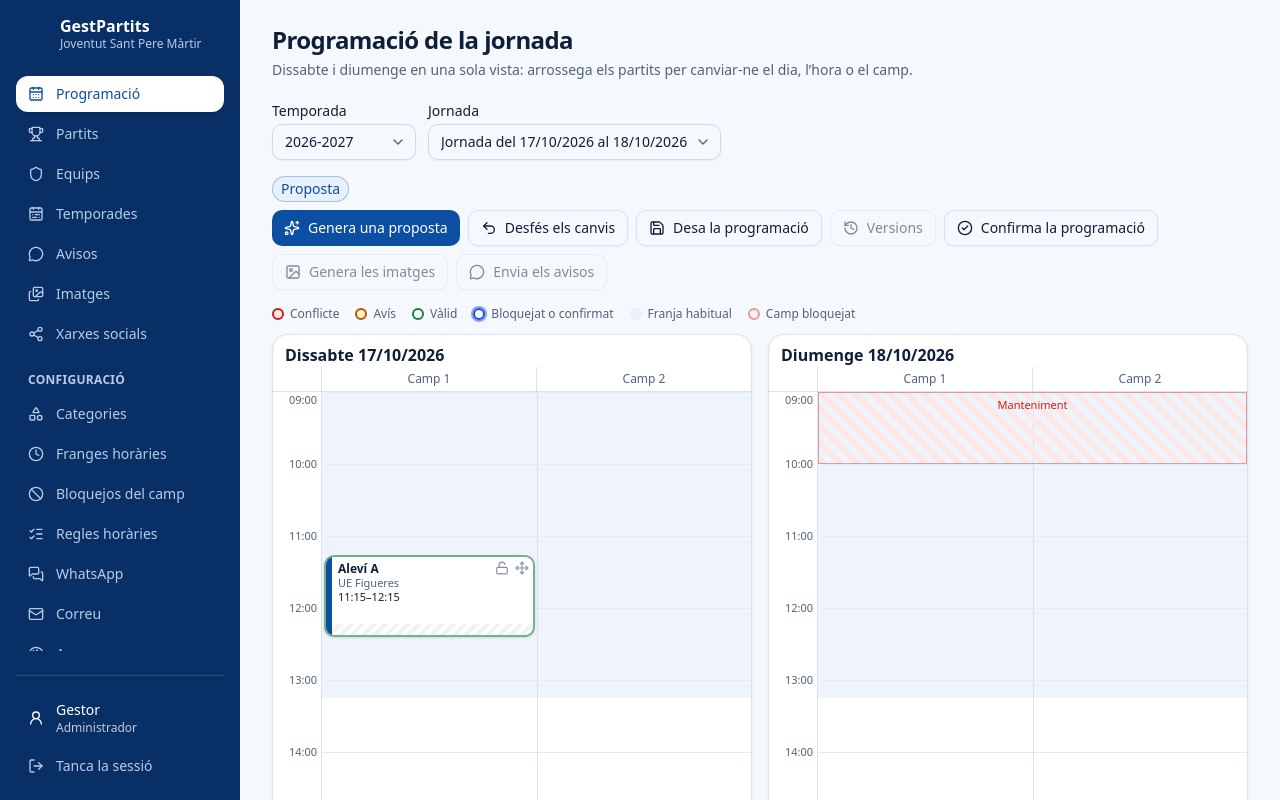
Test: calendari de la jornada › genera una proposta i en mostra els canvis
The width and height of the screenshot is (1280, 800).
Click the button "Genera una proposta". click: [366, 228]
box: [272, 210, 460, 246]
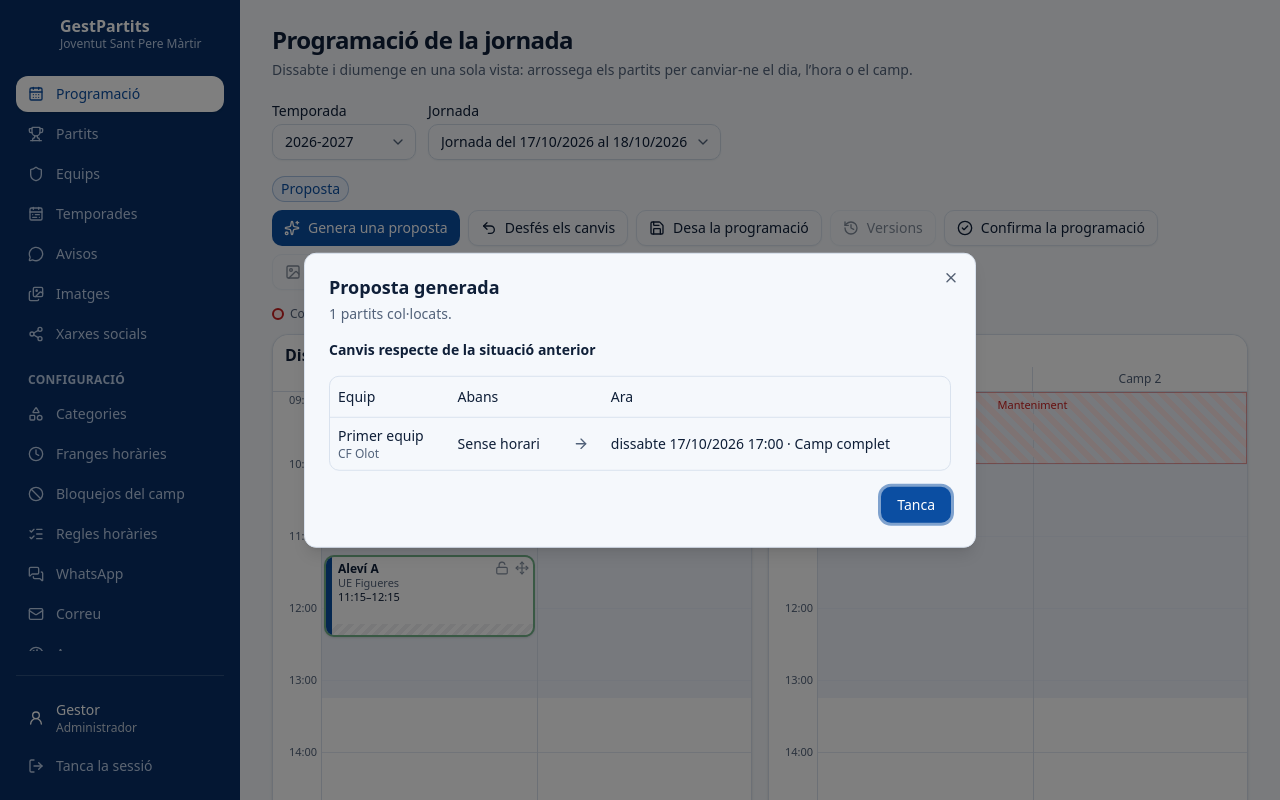
Expected: the heading "Proposta generada" is shown, [329, 275, 500, 299]
Expected: the text "dissabte 17/10/2026 17:00 · Camp complet" is shown, [603, 417, 950, 469]
